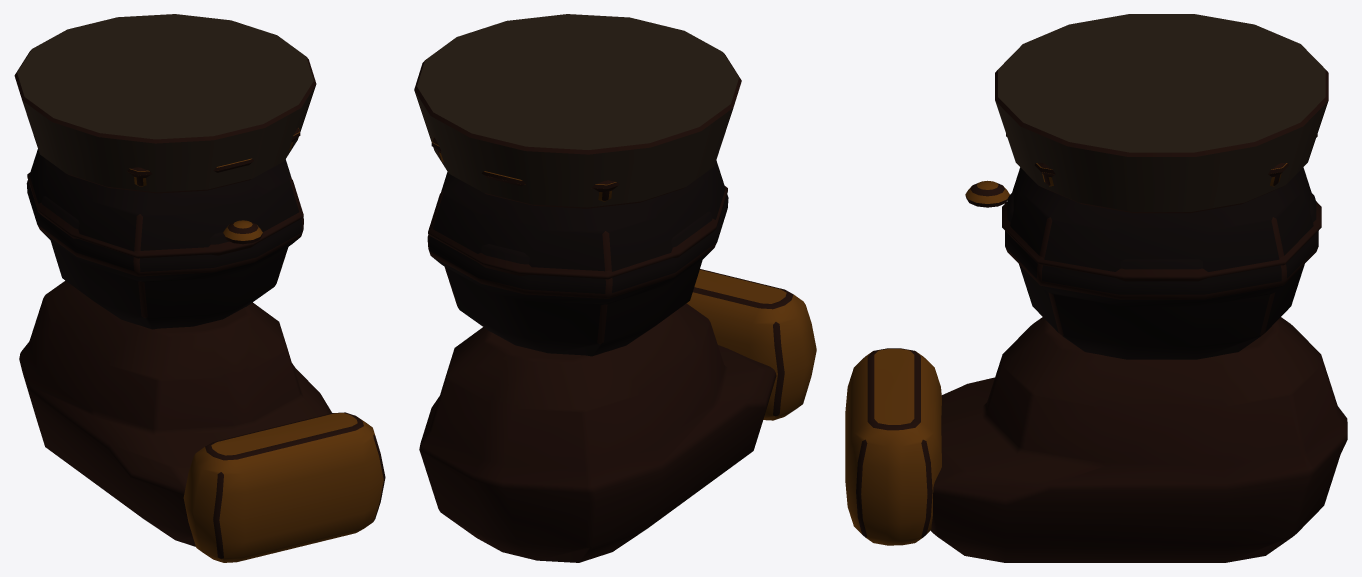
File: Couro_BotaR.fbx
3 views of the same model, side by side, from view 1: azimuth 30°, elevation 25°; view 2: azimuth 150°, elevation 25°; view 3: azimuth 270°, elevation 25° (orthographic). The views are drawn at different scales.
Parts seen in each view (by area): view 1: Piece; view 2: Piece; view 3: Piece.
Part boxes in pixels (x1,y1,x2,y2): Piece: (14, 14, 385, 562); Piece: (414, 14, 816, 562); Piece: (845, 14, 1347, 562).
Size of the model in its own units: 0.2144 by 0.3186 by 0.323.
